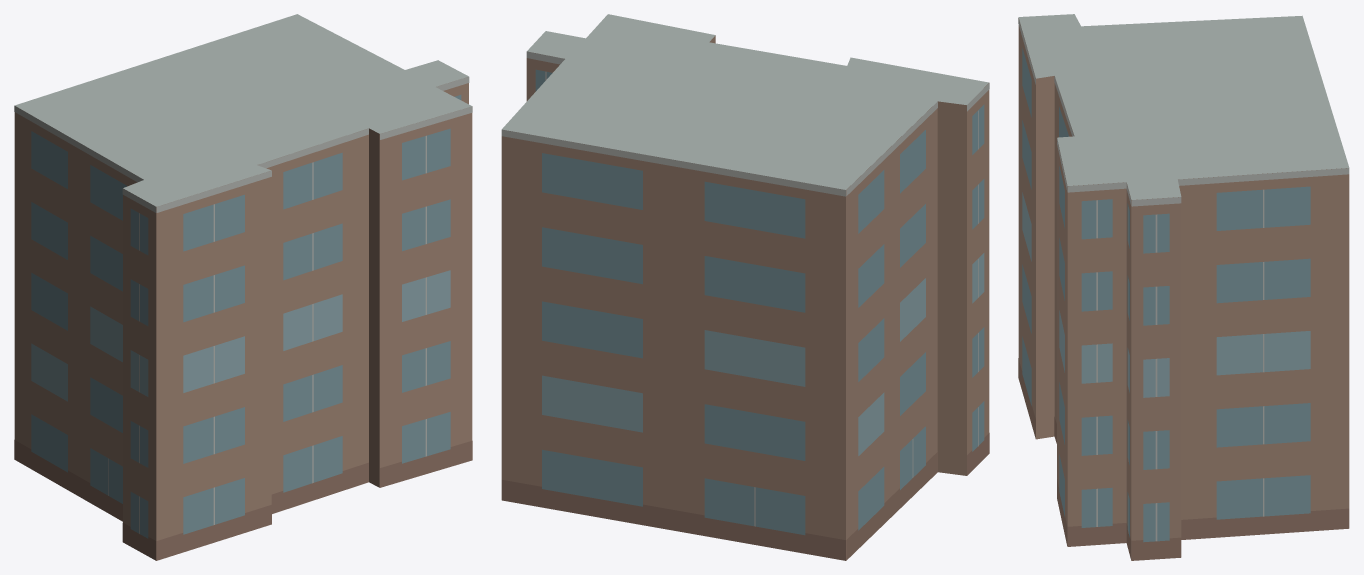
Rendered from survey-upis-32889428.glb.
The picture shows the model from 3 angles, left to right: view 1: azimuth 30°, elevation 25°; view 2: azimuth 150°, elevation 25°; view 3: azimuth 270°, elevation 25°; orthographic projection. The views are drawn at different scales.
Parts seen in each view (by area): view 1: survey-upis-32889428.tmp; view 2: survey-upis-32889428.tmp; view 3: survey-upis-32889428.tmp.
Boxes of the visible parts, box(x1,y1,x2,y2) form: survey-upis-32889428.tmp: box(14, 14, 472, 560); survey-upis-32889428.tmp: box(501, 14, 989, 560); survey-upis-32889428.tmp: box(1018, 14, 1349, 560).
Size of the model in its own units: 15.05 by 13.6 by 11.32.
